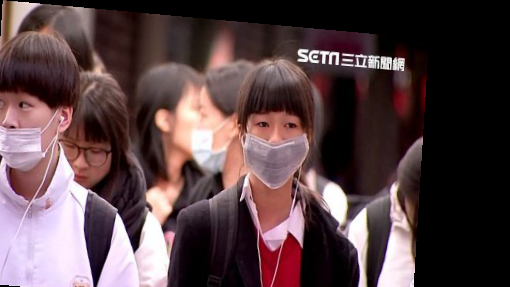mask_weared_incorrect: (1, 30, 91, 179)
